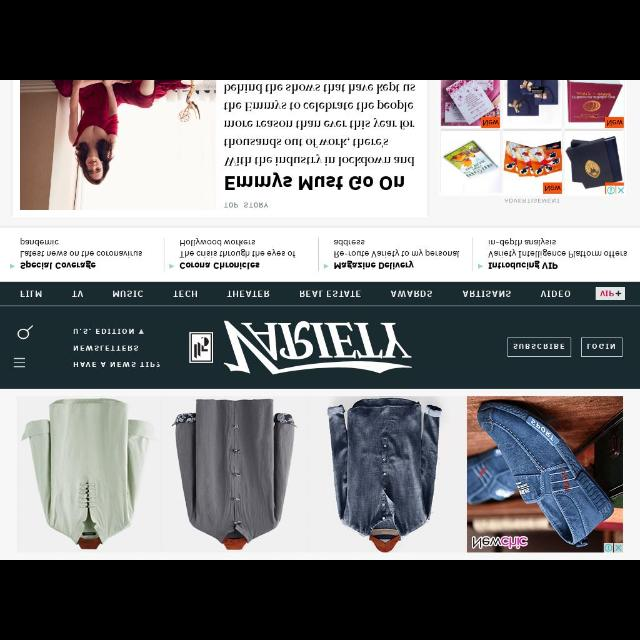button: (607, 185, 617, 195), (604, 542, 612, 552), (615, 543, 623, 551), (618, 186, 626, 194)
icon: (16, 324, 34, 341), (12, 356, 26, 368), (8, 264, 14, 270), (168, 262, 174, 268), (476, 263, 482, 269), (322, 264, 328, 268)
iframe: (2, 390, 640, 560), (438, 81, 634, 227)
image: (20, 85, 216, 211), (184, 310, 410, 378)
text: (225, 84, 417, 190), (179, 234, 299, 272), (489, 238, 629, 270), (20, 236, 144, 272), (332, 237, 461, 271), (68, 323, 160, 369), (299, 288, 359, 298), (513, 342, 565, 352), (110, 287, 146, 301), (464, 288, 512, 298), (222, 202, 270, 212), (390, 288, 434, 298), (227, 288, 269, 296), (19, 288, 43, 300), (172, 288, 196, 300), (539, 290, 573, 298), (586, 342, 618, 350), (600, 288, 620, 298), (73, 290, 85, 300)
textbutton: (506, 338, 570, 357), (582, 338, 620, 356), (596, 288, 624, 300)
toolbar: (1, 282, 637, 386)
